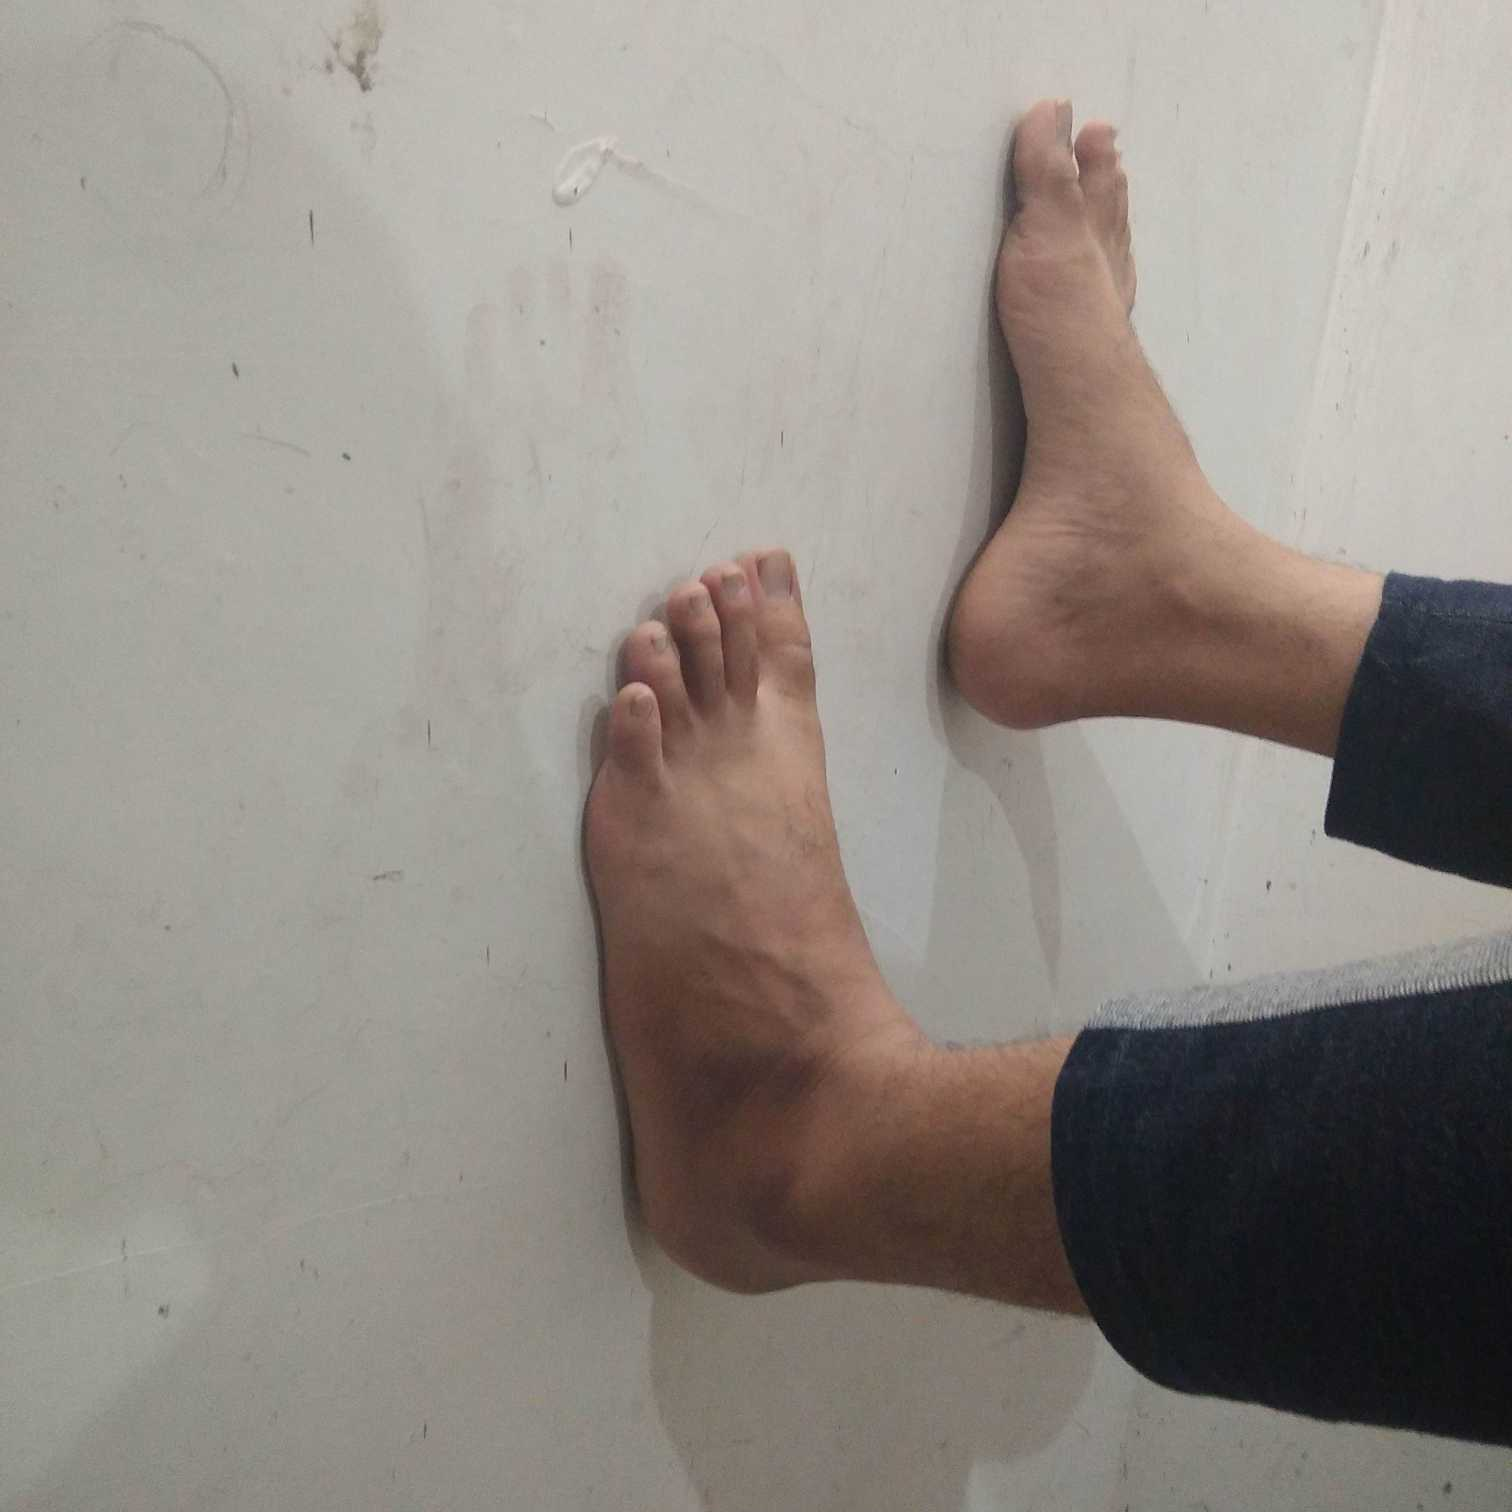foot: (573, 539, 883, 1299), (935, 94, 1181, 732)
